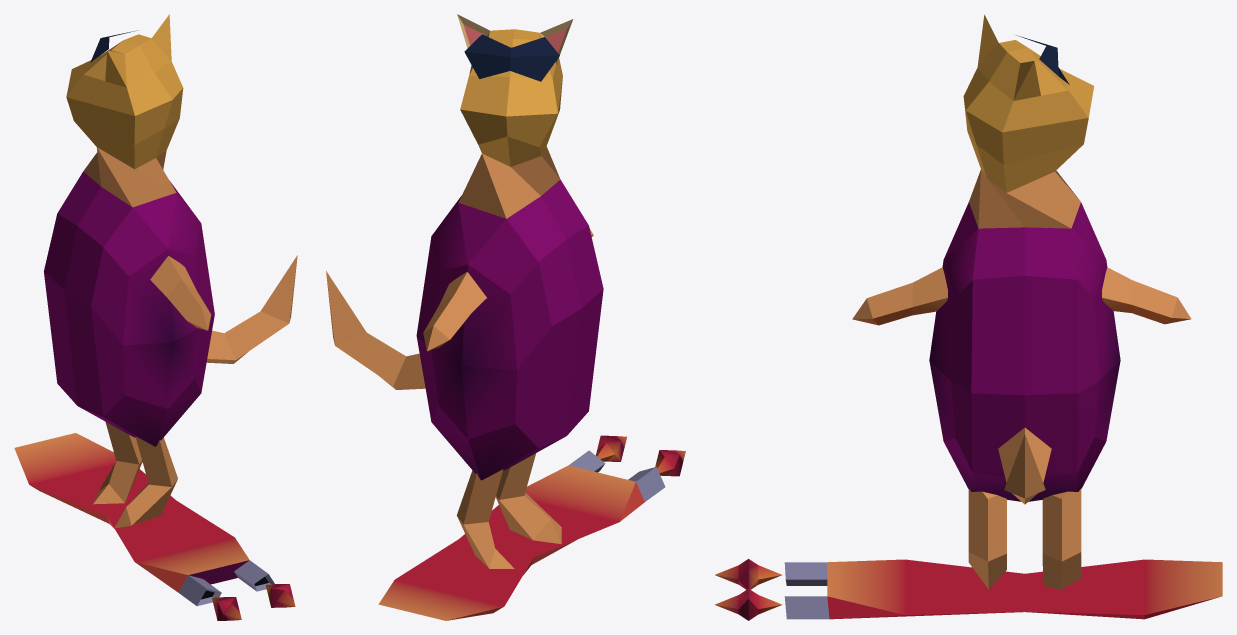
File: SkateboardCat.glb
3 views of the same model, side by side, from view 1: azimuth 30°, elevation 25°; view 2: azimuth 150°, elevation 25°; view 3: azimuth 270°, elevation 25° (orthographic). The views are drawn at different scales.
Visible parts, largest first — view 1: SkateboardCat, Skateboard, Fire; view 2: SkateboardCat, Skateboard, Fire; view 3: SkateboardCat, Skateboard, Fire.
Part boxes in pixels (box(x1,y1,x2,y2)): SkateboardCat: box(44, 14, 297, 528); Skateboard: box(14, 433, 274, 606); Fire: box(212, 584, 295, 620); SkateboardCat: box(326, 14, 603, 568); Skateboard: box(378, 450, 665, 620); Fire: box(596, 435, 685, 476); SkateboardCat: box(852, 14, 1191, 589); Skateboard: box(784, 559, 1222, 619); Fire: box(715, 559, 782, 620).
Bounding box in the file's own units: 1.01 × 2.05 × 1.67.
